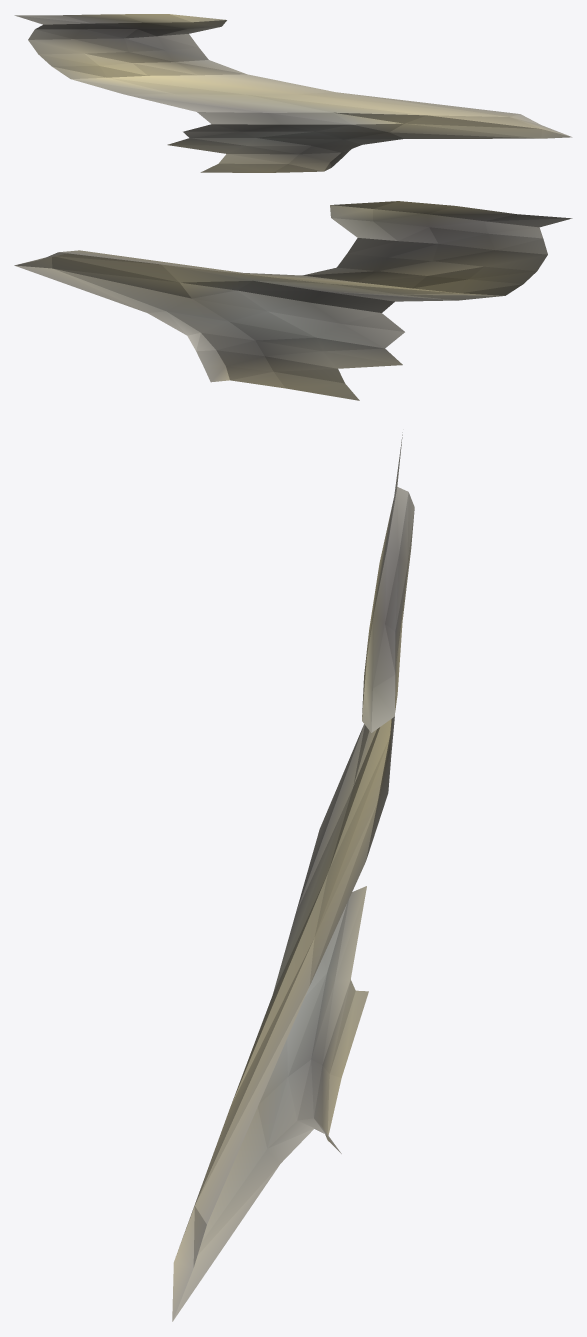
File: entity-floor-marking-32.glb
3 views of the same model, one above another, from view 1: azimuth 30°, elevation 25°; view 2: azimuth 150°, elevation 25°; view 3: azimuth 270°, elevation 25° (orthographic). The views are drawn at different scales.
Parts seen in each view (by area): view 1: geometry_0; view 2: geometry_0; view 3: geometry_0.
Part boxes in pixels (x1,y1,x2,y2): geometry_0: (14, 14, 572, 172); geometry_0: (14, 201, 572, 400); geometry_0: (172, 432, 414, 1321).
Bounding box in the file's own units: 0.8002 × 0.328 × 0.1677.
